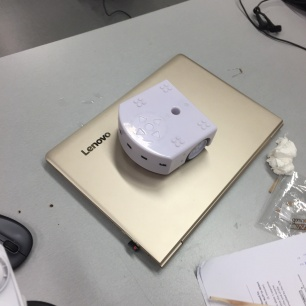thymio: (112, 77, 220, 179)
